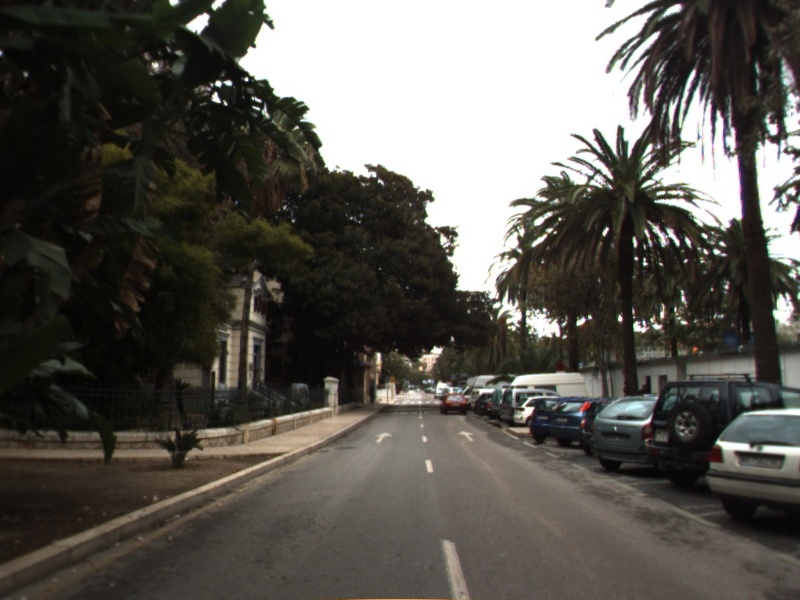STRAIGHT: (372, 430, 395, 445), (455, 429, 478, 443)
